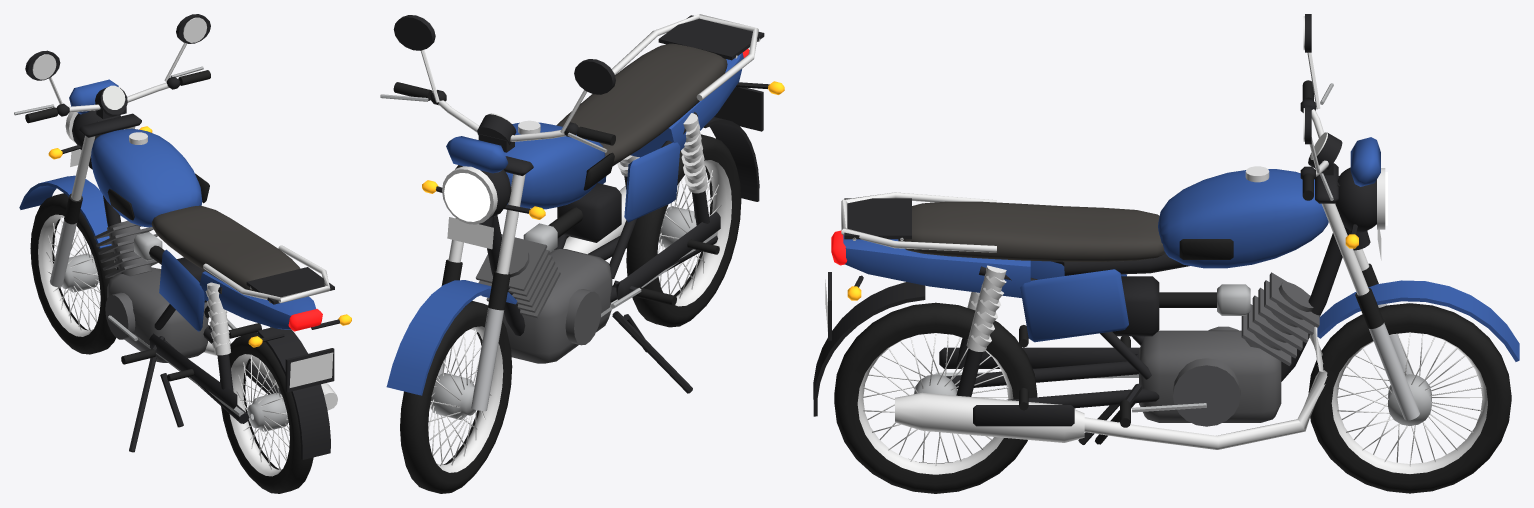
The model's file is motorbike.glb.
The picture shows the model from 3 angles, left to right: view 1: azimuth 30°, elevation 25°; view 2: azimuth 150°, elevation 25°; view 3: azimuth 270°, elevation 25°; orthographic projection. The views are drawn at different scales.
Visible parts, largest first — view 1: bike_body, wheel_rear, wheel_front; view 2: bike_body, wheel_front, wheel_rear; view 3: bike_body, wheel_front, wheel_rear.
Boxes of the visible parts, box(x1,y1,x2,y2) form: bike_body: box(14, 14, 351, 459); wheel_rear: box(220, 332, 313, 493); wheel_front: box(30, 193, 116, 354); bike_body: box(380, 14, 784, 411); wheel_front: box(400, 301, 512, 493); wheel_rear: box(626, 134, 741, 327); bike_body: box(813, 14, 1519, 449); wheel_front: box(1308, 303, 1511, 493); wheel_rear: box(834, 302, 1037, 493).
Size of the model in its own units: 0.8025 by 1.39 by 2.08.
